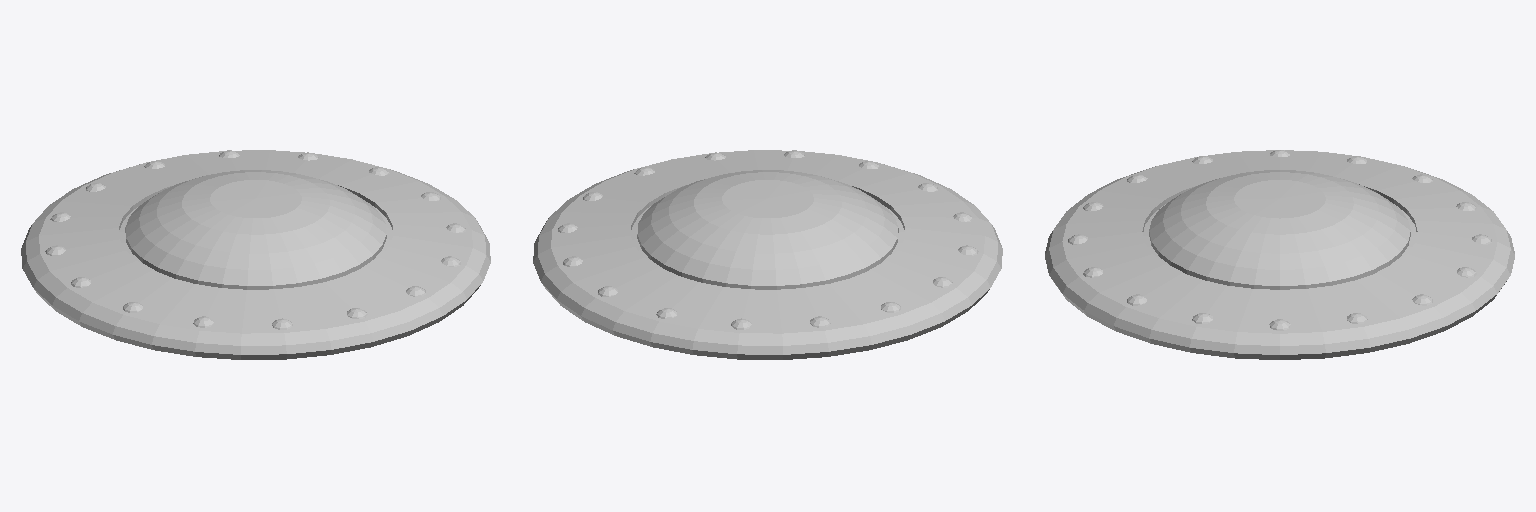
Rendered from spaceship.obj.
The picture shows the model from 3 angles: view 1: azimuth 30°, elevation 25°; view 2: azimuth 150°, elevation 25°; view 3: azimuth 270°, elevation 25°; orthographic projection.
Parts seen in each view (by area): view 1: SpaceShip_Sphere.005; view 2: SpaceShip_Sphere.005; view 3: SpaceShip_Sphere.005.
Boxes of the visible parts, box(x1,y1,x2,y2) form: SpaceShip_Sphere.005: box(21, 150, 490, 359); SpaceShip_Sphere.005: box(533, 150, 1002, 359); SpaceShip_Sphere.005: box(1045, 150, 1514, 359).
Bounding box in the file's own units: 4 × 1.08 × 4.